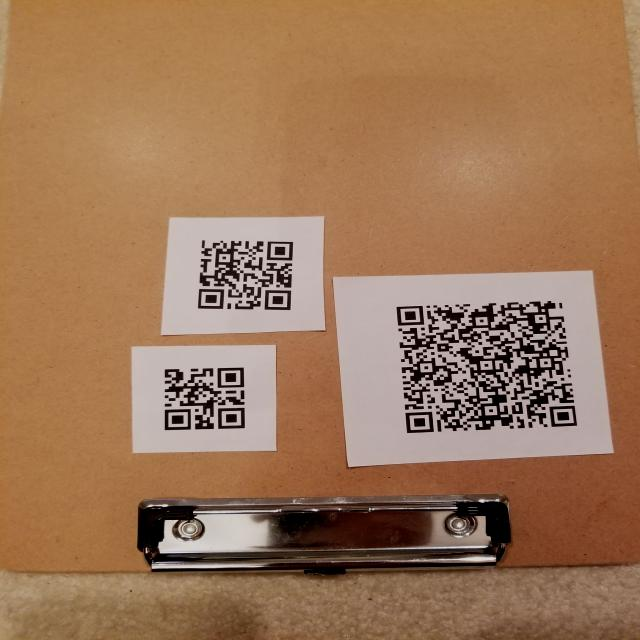QRCode: (382, 286, 591, 444), (178, 224, 310, 324), (148, 351, 264, 442)
